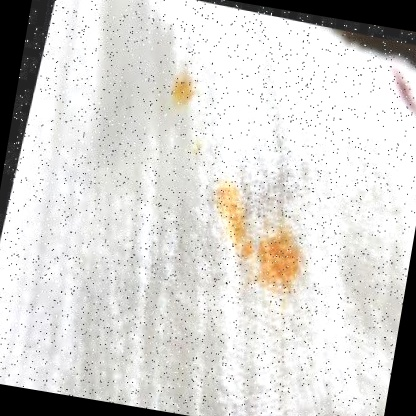kimchi: (249, 224, 316, 295), (204, 179, 263, 259), (166, 65, 207, 112), (187, 138, 207, 158)
